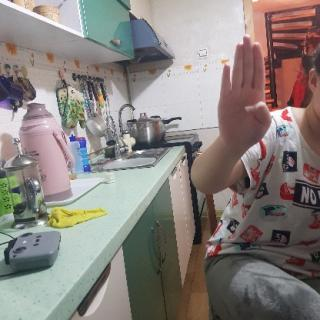KAAF: (218, 31, 272, 161)
